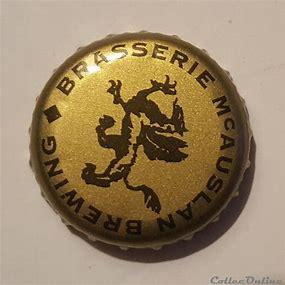metal: (30, 33, 253, 250)
